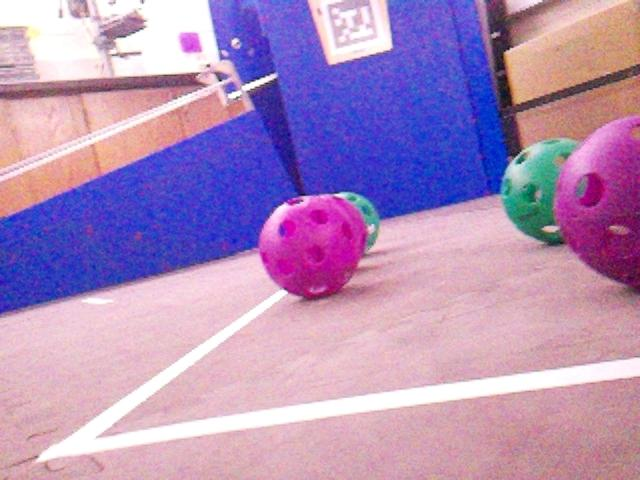Green: (499, 139, 581, 244), (334, 193, 381, 254)
Purple: (557, 115, 640, 297), (255, 196, 363, 299)
